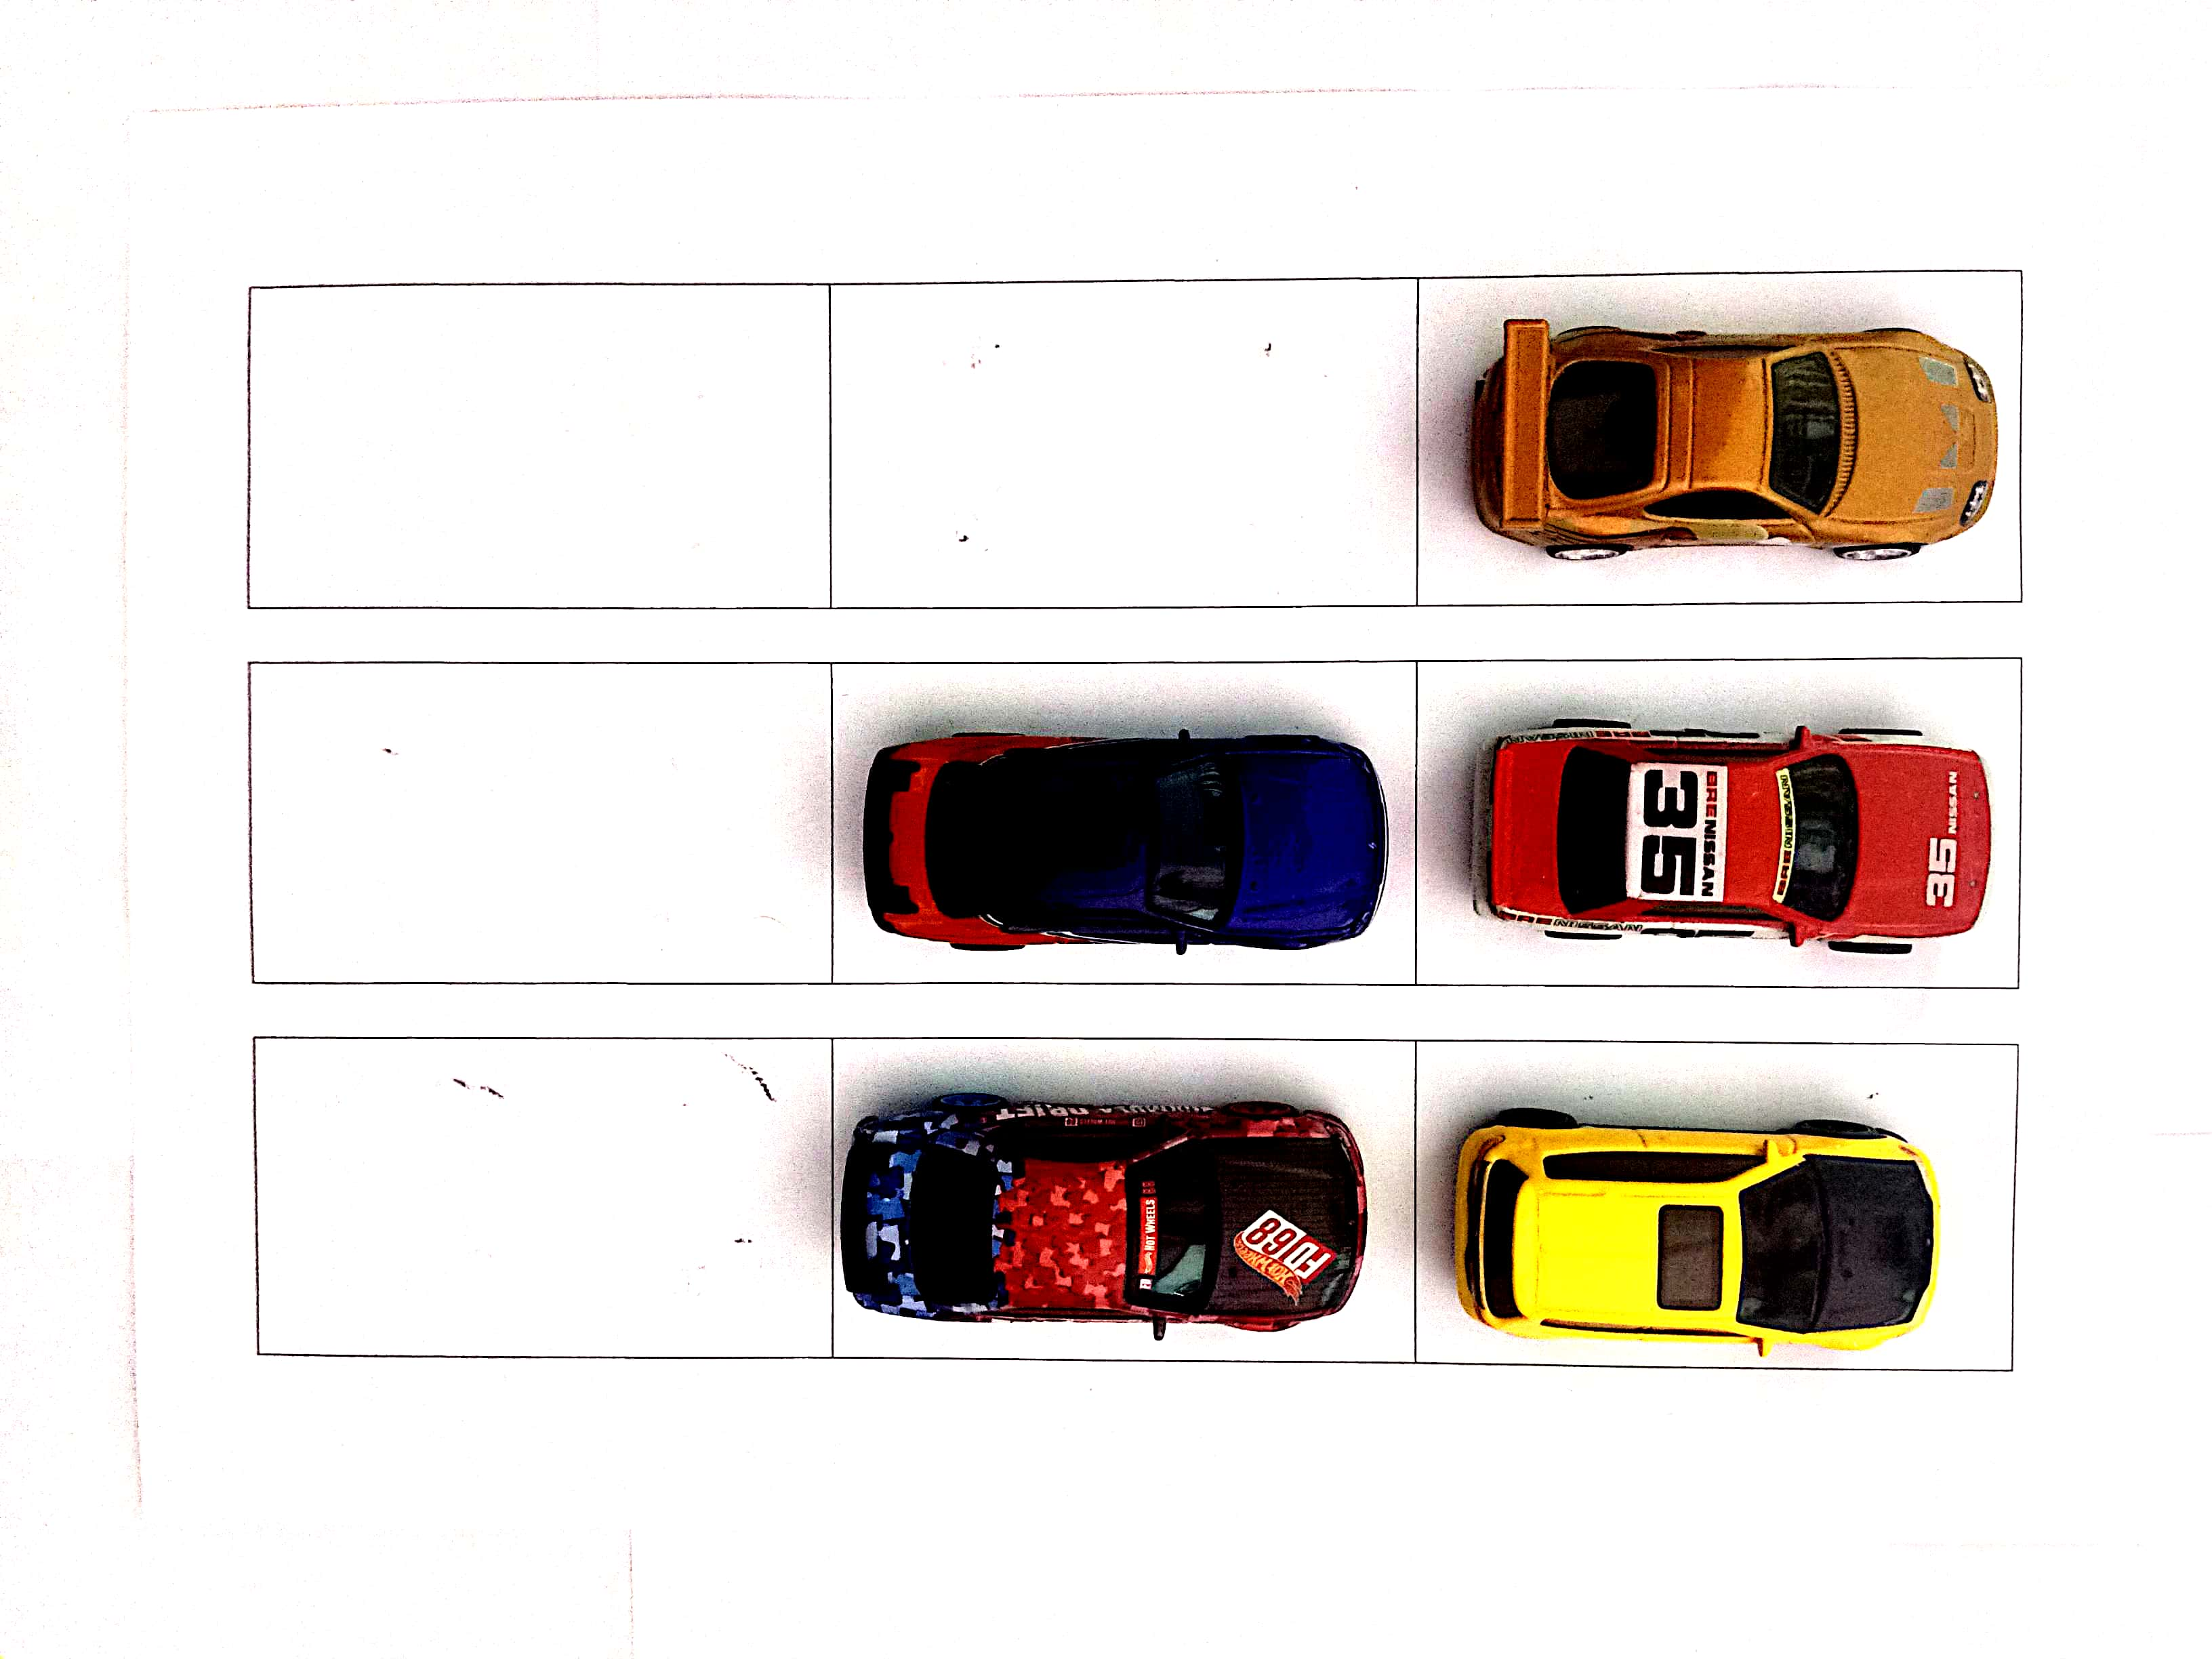Busy: (1414, 277, 2017, 603), (1420, 1033, 2015, 1363), (1418, 657, 2017, 981), (840, 1033, 1418, 1354), (831, 664, 1414, 981)
Free: (247, 277, 834, 603), (834, 277, 1407, 606), (251, 664, 831, 981), (254, 1037, 831, 1354)
